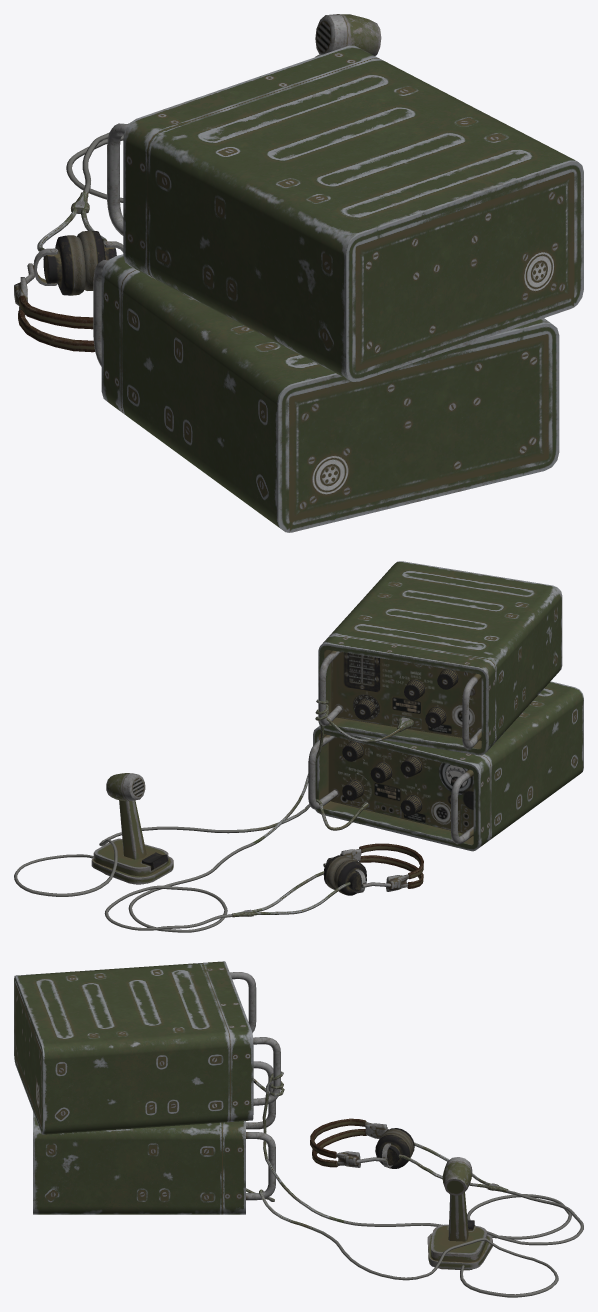
The model's file is Radio_2.fbx.
The picture shows the model from 3 angles, top to bottom: view 1: azimuth 30°, elevation 25°; view 2: azimuth 150°, elevation 25°; view 3: azimuth 270°, elevation 25°; orthographic projection. The views are drawn at different scales.
Parts seen in each view (by area): view 1: polySurface74; view 2: polySurface74; view 3: polySurface74.
Boxes of the visible parts, x1=… form: polySurface74: x1=14, y1=14, x2=583, y2=532; polySurface74: x1=14, y1=561, x2=583, y2=932; polySurface74: x1=14, y1=961, x2=583, y2=1297.
Bounding box in the file's own units: 0.0338 × 0.0173 × 0.05.
